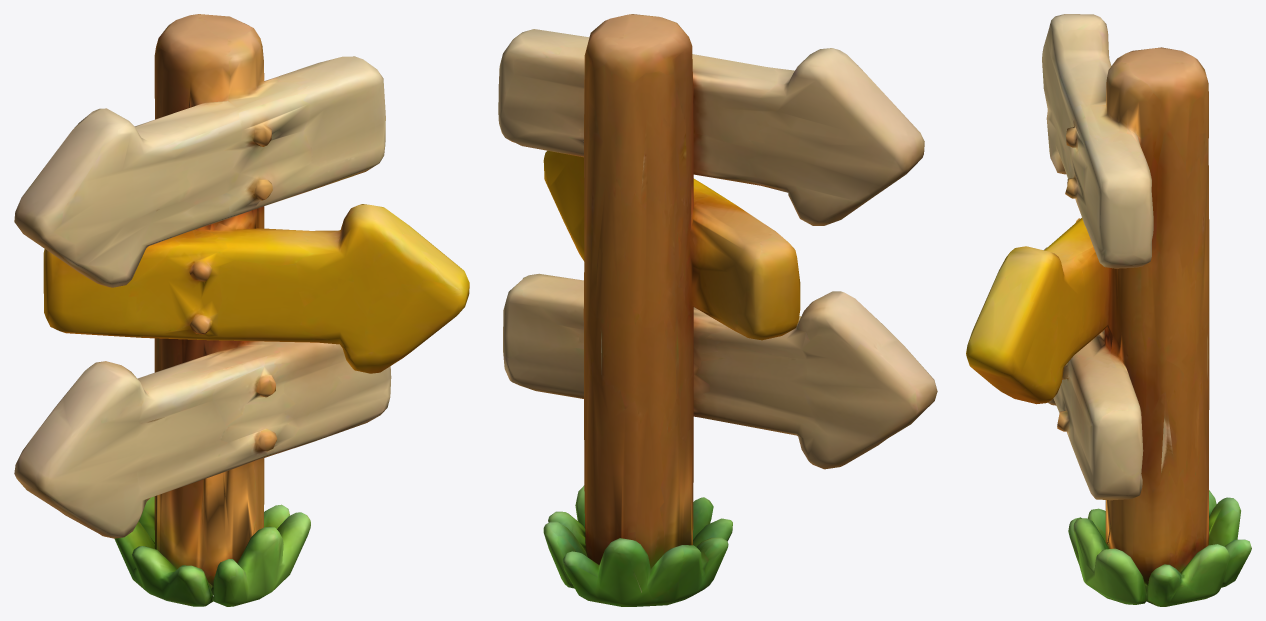
The model's file is signpost-arrows.glb.
3 views of the same model, side by side, from view 1: azimuth 30°, elevation 25°; view 2: azimuth 150°, elevation 25°; view 3: azimuth 270°, elevation 25° (orthographic). The views are drawn at different scales.
Visible parts, largest first — view 1: tripo_node_dda06e25-0847-484f-865f-3d1fb7f00f8c; view 2: tripo_node_dda06e25-0847-484f-865f-3d1fb7f00f8c; view 3: tripo_node_dda06e25-0847-484f-865f-3d1fb7f00f8c.
Part boxes in pixels (<box>): tripo_node_dda06e25-0847-484f-865f-3d1fb7f00f8c: <box>14,14,469,606</box>; tripo_node_dda06e25-0847-484f-865f-3d1fb7f00f8c: <box>498,14,937,606</box>; tripo_node_dda06e25-0847-484f-865f-3d1fb7f00f8c: <box>966,14,1251,606</box>.
Bounding box in the file's own units: 0.786 × 0.9998 × 0.4975.
1 material, 1 textured.
